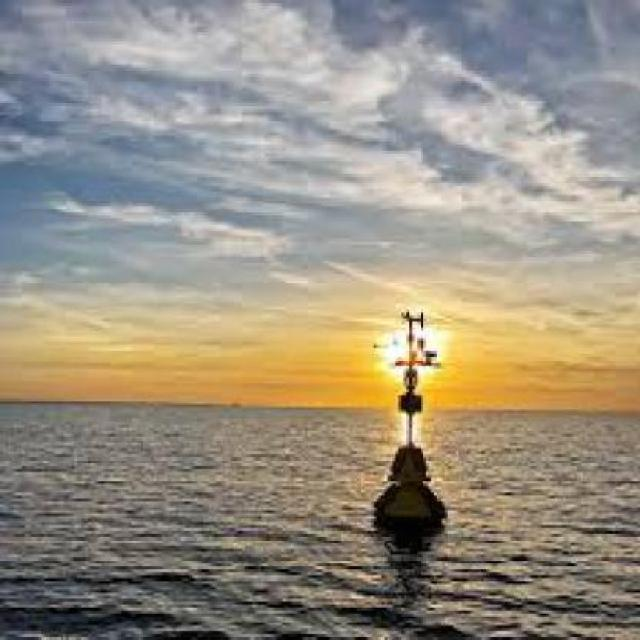buoy: (359, 299, 465, 546)
